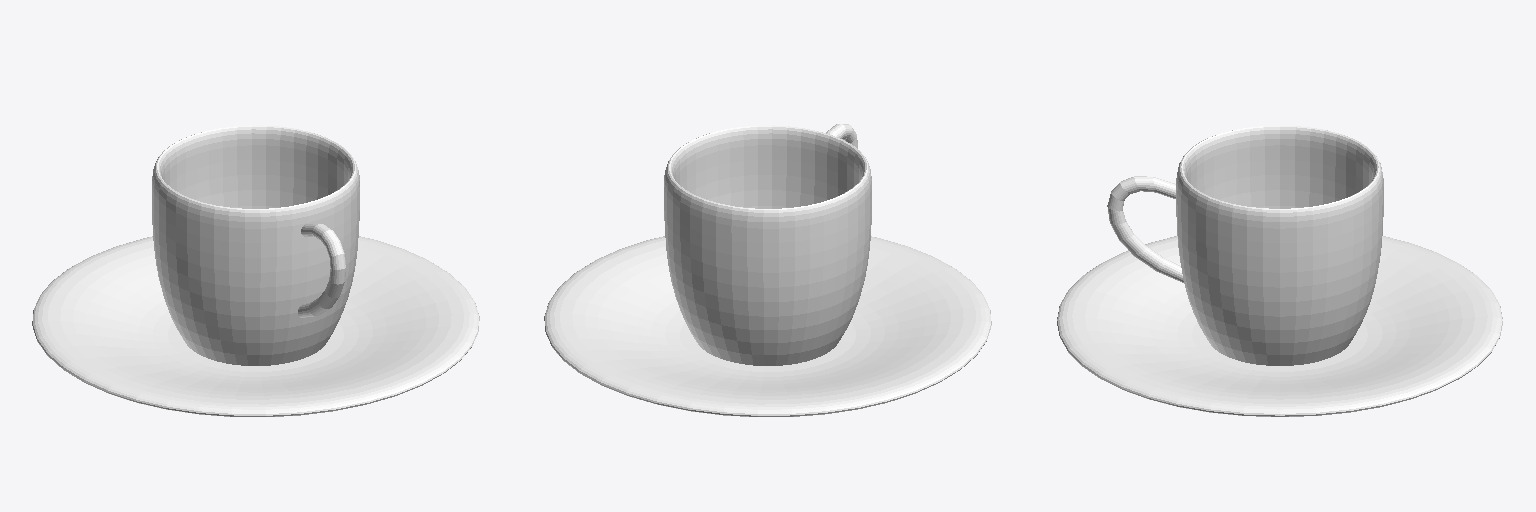
File: teacup.obj
3 views of the same model, side by side, from view 1: azimuth 30°, elevation 25°; view 2: azimuth 150°, elevation 25°; view 3: azimuth 270°, elevation 25° (orthographic).
Visible parts, largest first — view 1: teacup; view 2: teacup; view 3: teacup.
Boxes of the visible parts, x1,y1,x2,y2 form: teacup: [32, 125, 479, 416]; teacup: [544, 124, 991, 416]; teacup: [1057, 125, 1502, 416].
Bounding box in the file's own units: 1.95 × 0.858 × 1.95.